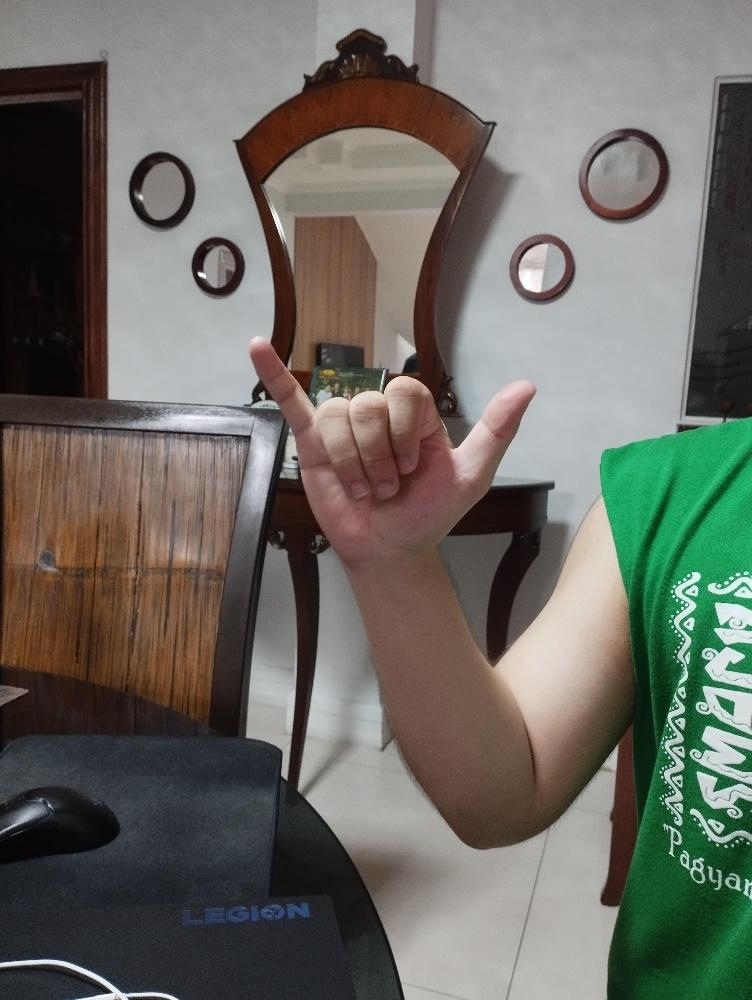y: (246, 333, 538, 566)
